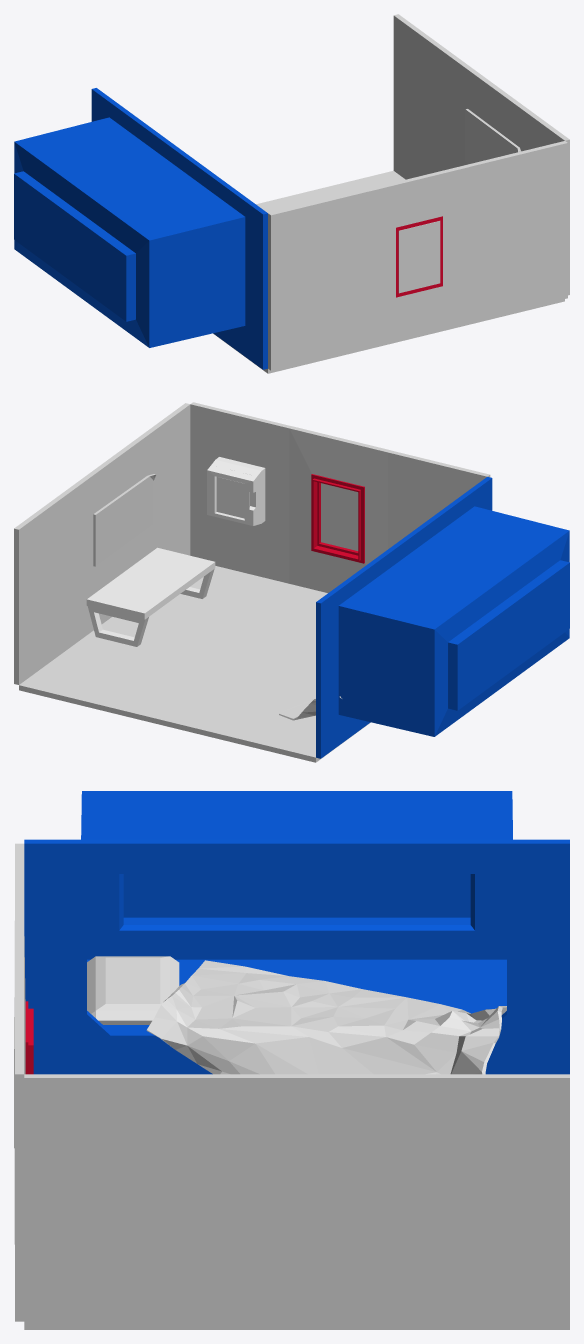
File: room.fbx
3 views of the same model, one above another, from view 1: azimuth 30°, elevation 25°; view 2: azimuth 150°, elevation 25°; view 3: azimuth 270°, elevation 25° (orthographic). The views are drawn at different scales.
Parts seen in each view (by area): view 1: room.bed, room.wall, room.wall.005, room.wall.window, room.wall.008, room.wall.009, room.wall.window.glass, room.floor, room.wall.007, room.map; view 2: room.bed, room.floor, room.wall.005, room.wall.window, room.wall.008, room.wall.007, table, room.wall.009, room.wall, room.map, cabinet.door, room.wall.window.glass (+2 smaller); view 3: room.bed, room.wall.007, room.wall.008, room.wall.009, blanket, pillow, room.wall.005, room.floor, room.wall.window, room.wall.
Boxes of the visible parts, x1=… form: room.bed: x1=14, y1=88, x2=267, y2=369; room.wall: x1=268, y1=189, x2=369, y2=370; room.wall.005: x1=466, y1=141, x2=567, y2=322; room.wall.window: x1=367, y1=165, x2=468, y2=346; room.wall.008: x1=393, y1=14, x2=455, y2=179; room.wall.009: x1=450, y1=56, x2=512, y2=168; room.wall.window.glass: x1=398, y1=221, x2=440, y2=293; room.floor: x1=213, y1=170, x2=564, y2=373; room.wall.007: x1=508, y1=98, x2=569, y2=295; room.map: x1=465, y1=109, x2=521, y2=163; room.bed: x1=316, y1=477, x2=569, y2=758; room.floor: x1=19, y1=566, x2=370, y2=762; room.wall.005: x1=190, y1=402, x2=291, y2=583; room.wall.window: x1=289, y1=426, x2=390, y2=592; room.wall.008: x1=14, y1=486, x2=75, y2=684; room.wall.007: x1=128, y1=403, x2=190, y2=564; table: x1=86, y1=547, x2=215, y2=646; room.wall.009: x1=71, y1=445, x2=133, y2=642; room.wall: x1=388, y1=450, x2=490, y2=548; room.map: x1=93, y1=474, x2=156, y2=566; cabinet.door: x1=207, y1=465, x2=257, y2=525; room.wall.window.glass: x1=321, y1=483, x2=358, y2=550; room.bed: x1=24, y1=791, x2=569, y2=1074; room.wall.007: x1=24, y1=1074, x2=206, y2=1325; room.wall.008: x1=388, y1=1074, x2=569, y2=1325; room.wall.009: x1=206, y1=1074, x2=387, y2=1325; blanket: x1=146, y1=960, x2=506, y2=1074; pillow: x1=87, y1=956, x2=179, y2=1024; room.wall.005: x1=15, y1=997, x2=24, y2=1321; room.floor: x1=24, y1=1325, x2=569, y2=1329; room.wall.window: x1=14, y1=920, x2=33, y2=1244; room.wall: x1=15, y1=843, x2=24, y2=920.
Bounding box in the file's own units: 837 × 310 × 611.
